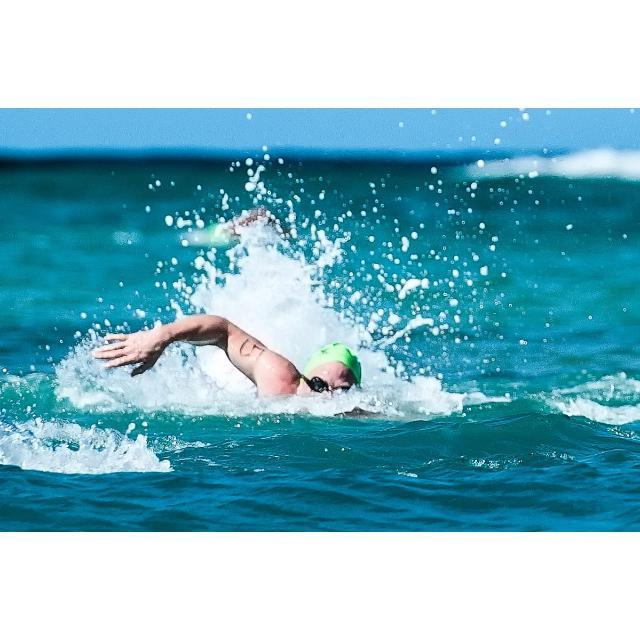human: (94, 314, 366, 414)
